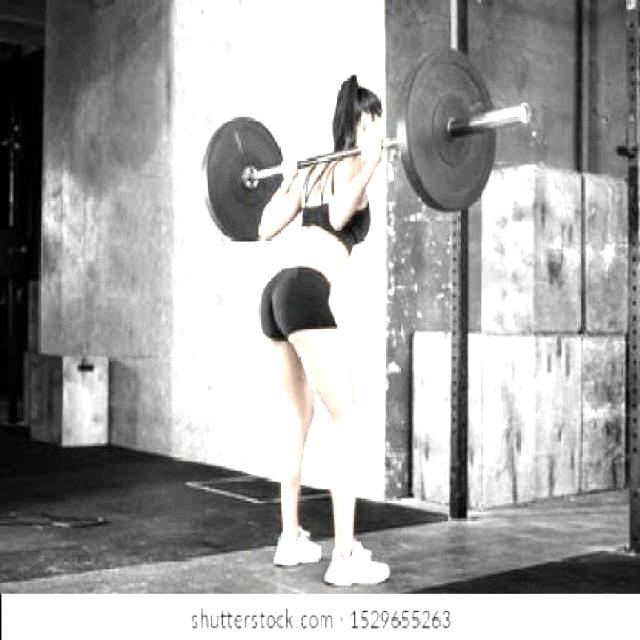barbell: (400, 44, 535, 216)
